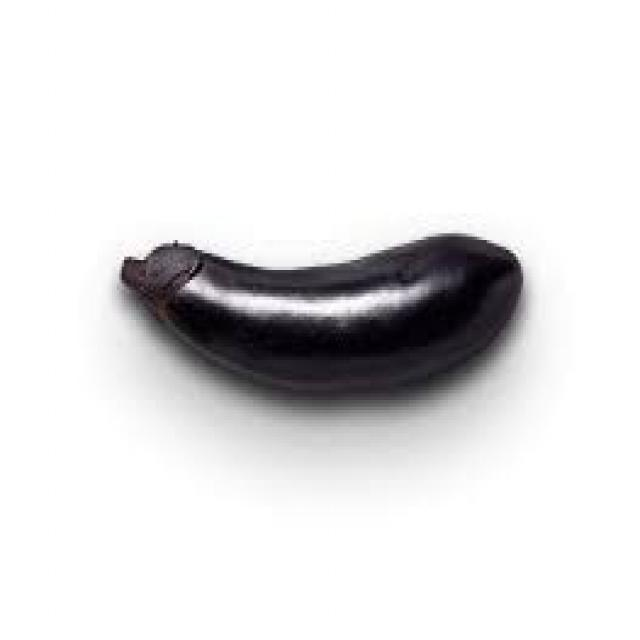eggplant: (100, 166, 526, 446)
